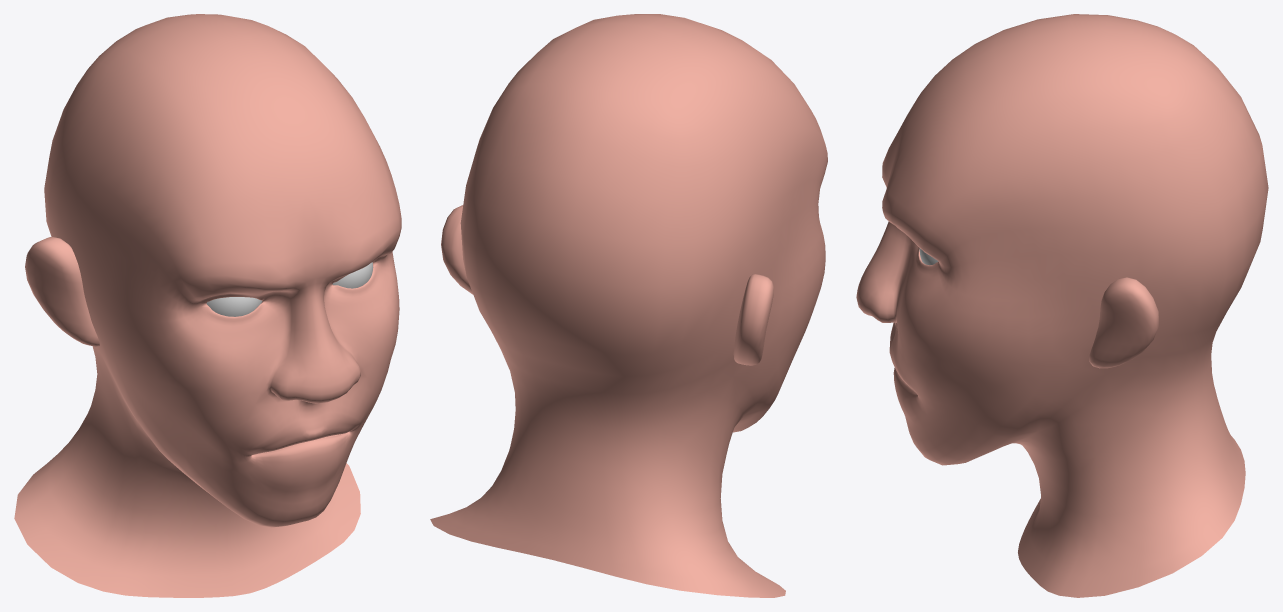
The model's file is uploads_files_3535579_2.fbx.
3 views of the same model, side by side, from view 1: azimuth 30°, elevation 25°; view 2: azimuth 150°, elevation 25°; view 3: azimuth 270°, elevation 25° (orthographic). The views are drawn at different scales.
Visible parts, largest first — view 1: H2, ears, eyes; view 2: H2, ears; view 3: H2, ears.
Boxes of the visible parts, bbox=[...] form: H2: bbox=[14, 14, 401, 597]; ears: bbox=[25, 237, 99, 346]; eyes: bbox=[206, 262, 373, 316]; H2: bbox=[430, 14, 827, 597]; ears: bbox=[441, 205, 773, 365]; H2: bbox=[856, 14, 1268, 597]; ears: bbox=[1089, 277, 1159, 368].
Size of the model in its own units: 4823 by 7631 by 5465.
